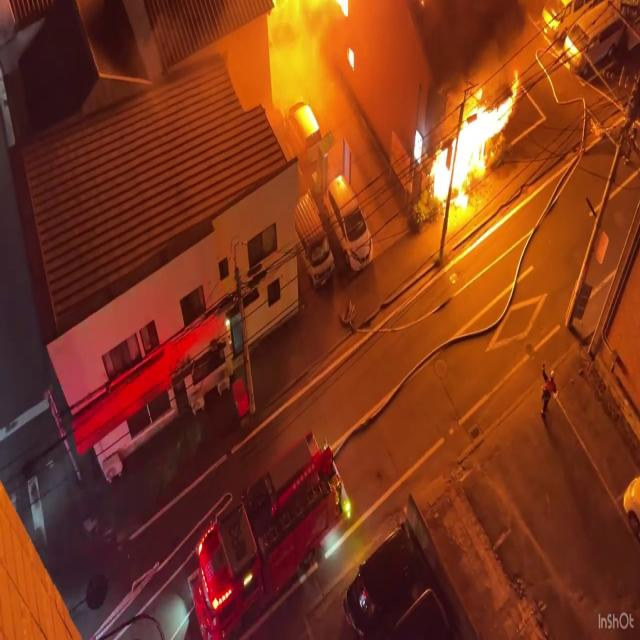Fire: (251, 0, 369, 159), (423, 70, 521, 216)
